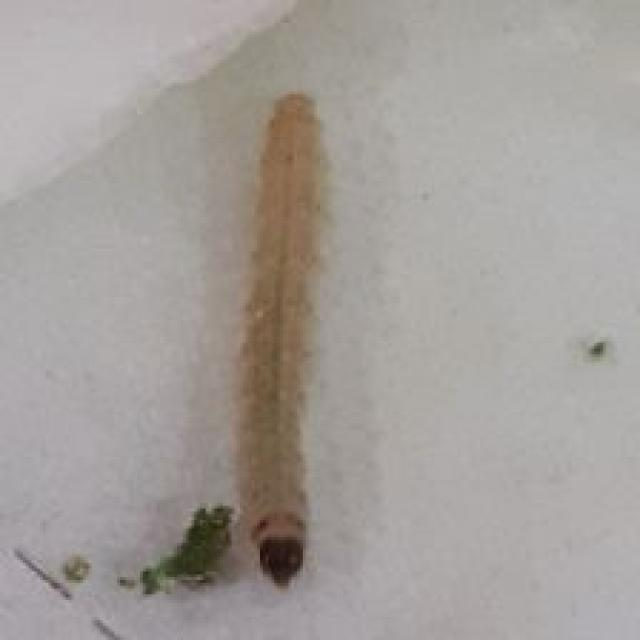white mucus: (187, 77, 363, 596)
